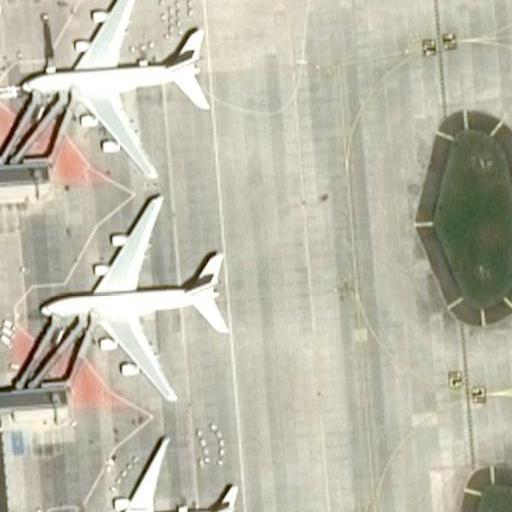Aircraft: (31, 191, 239, 406), (19, 0, 221, 185), (42, 423, 245, 512)
